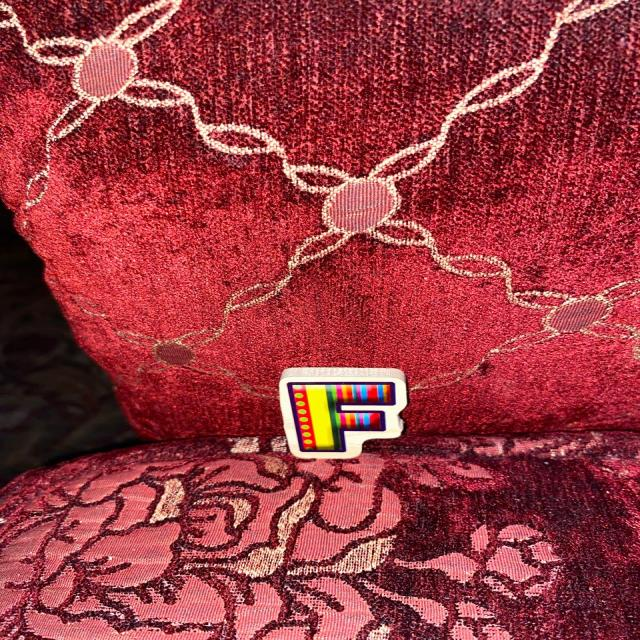F: (279, 367, 407, 458)
